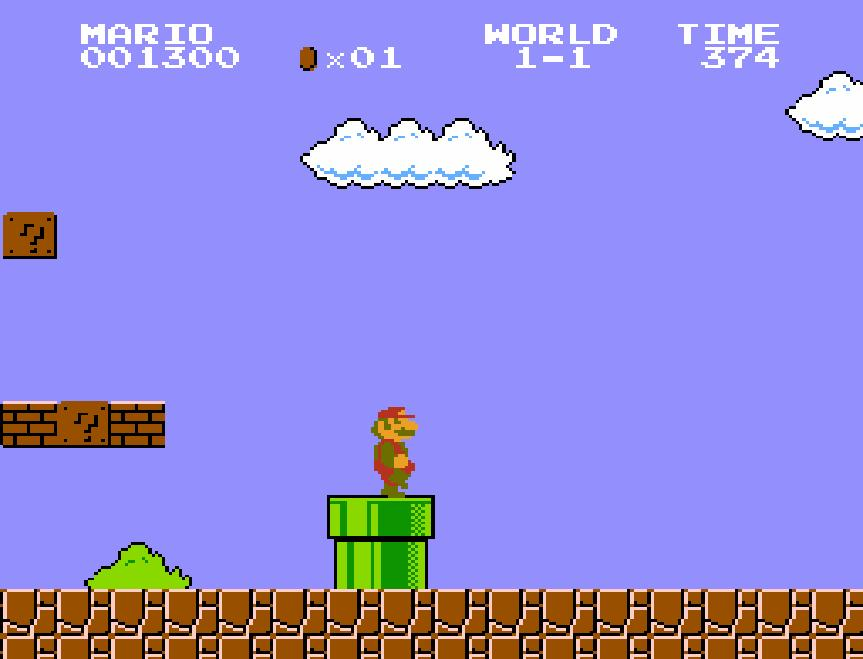big_mario: (366, 402, 424, 500)
